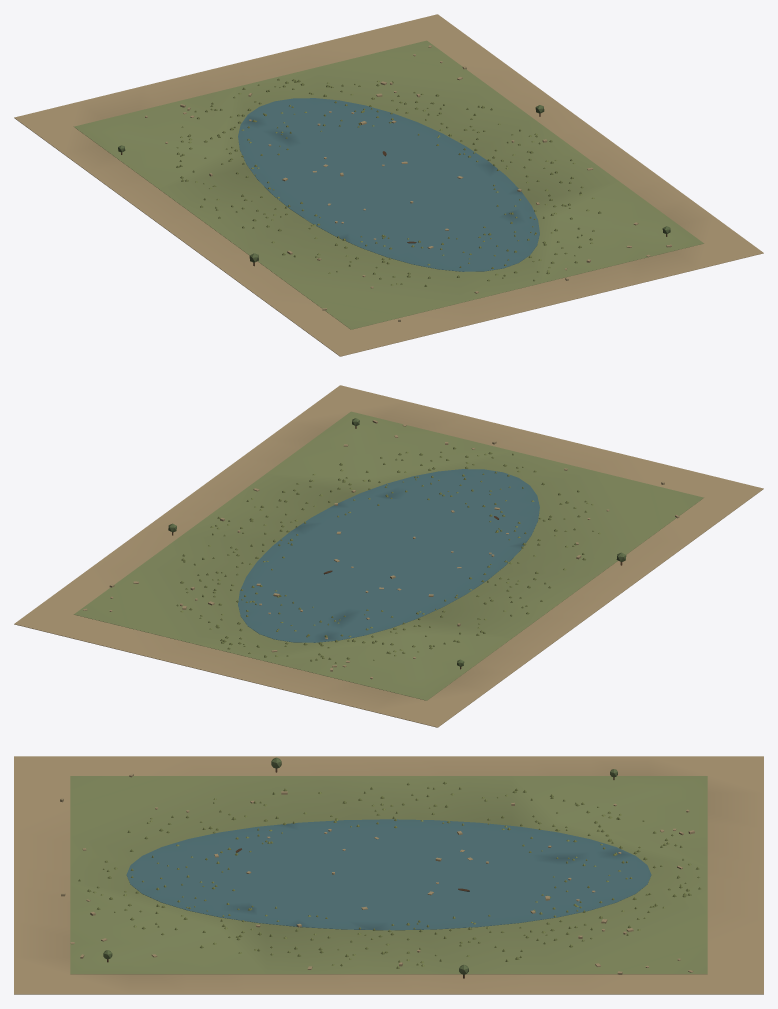
Rendered from harbour-silted.glb.
3 renders of one model, top to bottom at view 1: azimuth 30°, elevation 25°; view 2: azimuth 150°, elevation 25°; view 3: azimuth 270°, elevation 25°, orthographic. The views are drawn at different scales.
Visible parts, largest first — view 1: p0_lagoon, p1_ruins; view 2: p0_lagoon, p1_ruins; view 3: p0_lagoon, p1_ruins.
Part boxes in pixels (box(x1,y1,x2,y2)): p0_lagoon: box(14, 14, 763, 356); p1_ruins: box(145, 45, 671, 321); p0_lagoon: box(14, 385, 763, 727); p1_ruins: box(83, 420, 679, 679); p0_lagoon: box(14, 756, 763, 994); p1_ruins: box(60, 773, 700, 974).
Bounding box in the file's own units: 300 × 8.93 × 400.
